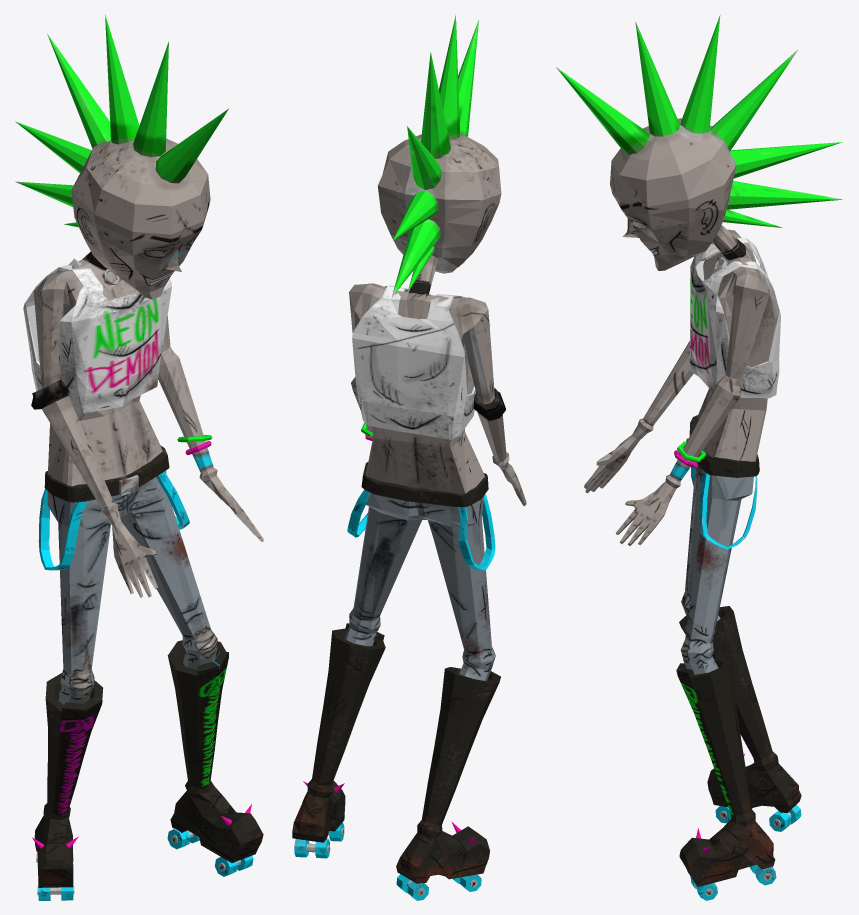
File: punkAnimation_000035.obj
3 views of the same model, side by side, from view 1: azimuth 30°, elevation 25°; view 2: azimuth 150°, elevation 25°; view 3: azimuth 270°, elevation 25° (orthographic). The views are drawn at different scales.
Parts seen in each view (by area): view 1: Cube.004_Cube.003; view 2: Cube.004_Cube.003; view 3: Cube.004_Cube.003.
Part boxes in pixels (x1,y1,x2,y2): Cube.004_Cube.003: [15, 14, 263, 900]; Cube.004_Cube.003: [292, 14, 526, 900]; Cube.004_Cube.003: [556, 15, 843, 900].
Size of the model in its own units: 1.92 by 7.44 by 2.36.
